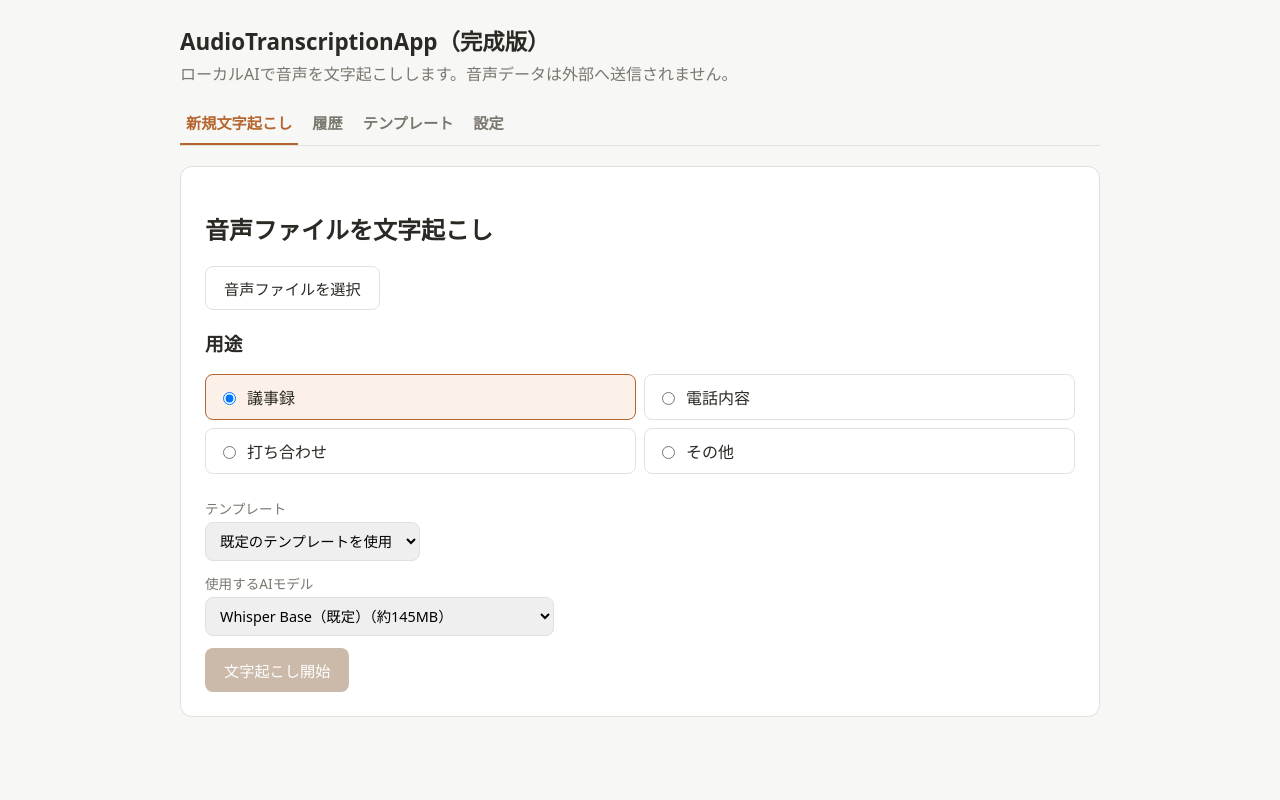
Test case: App（完成版 画面遷移） › モデル未キャッシュ時はダウンロード同意画面を経由してから文字起こしが始まる
Click the button "音声ファイルを選択": (292, 288) [205, 266, 380, 310]
(page scrolled)
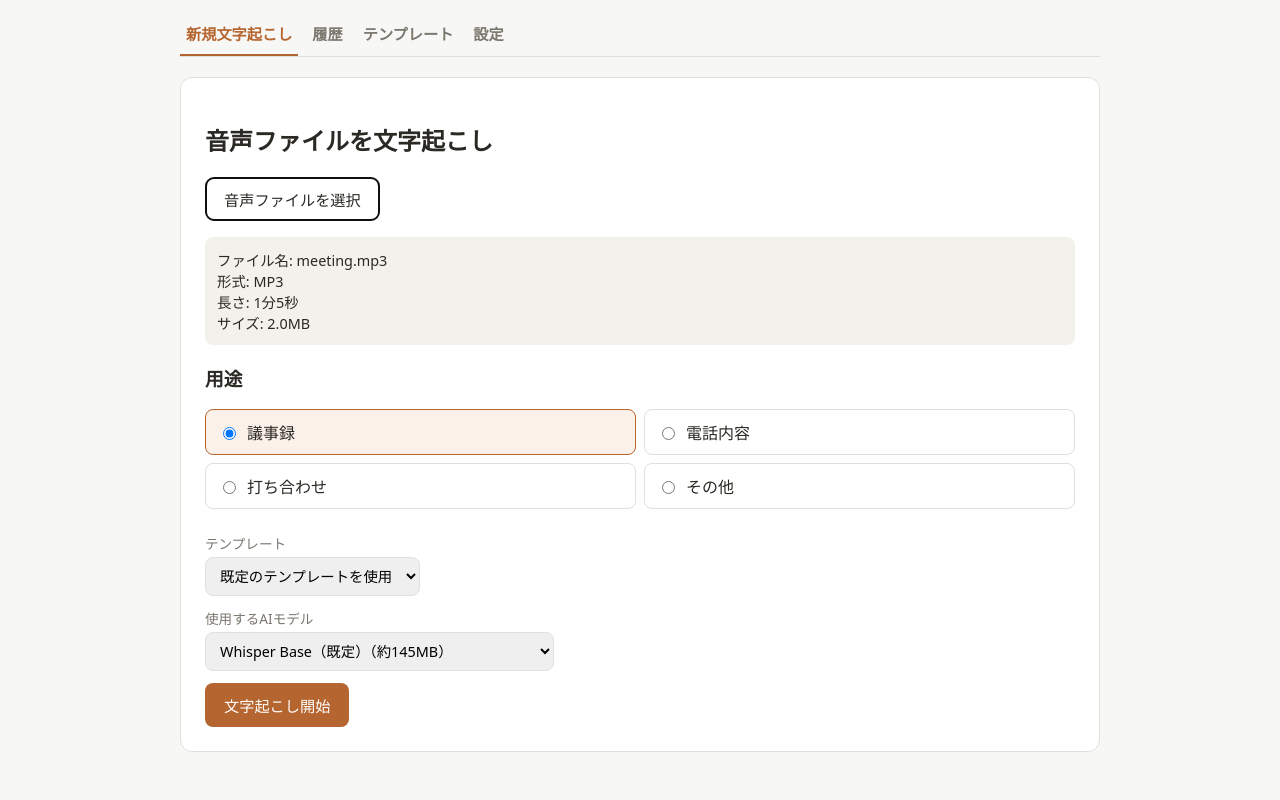
expect the element with test id "file-info" is shown: met, box [205, 237, 1075, 345]
Click the button with test id "start-button": (277, 705) [205, 683, 349, 727]
(page scrolled)
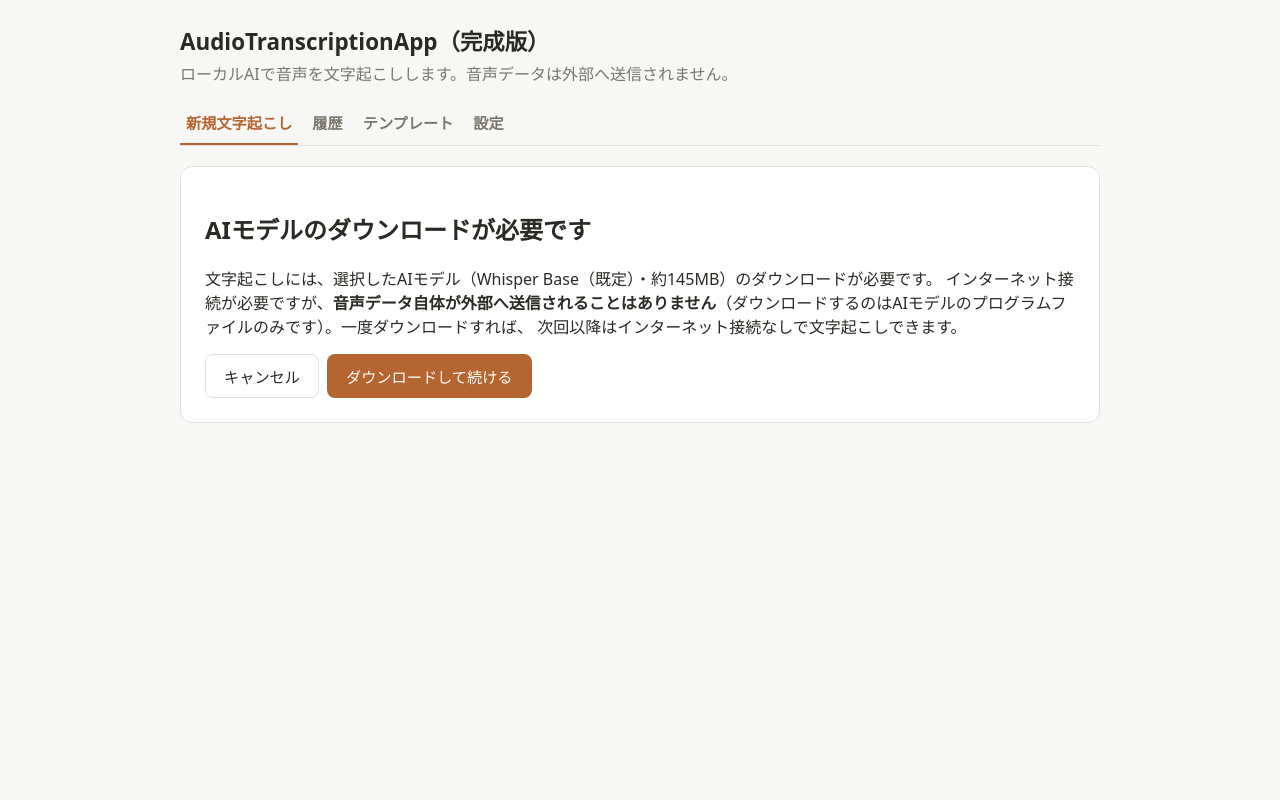
expect the element with test id "model-download-screen" is shown: met, box [180, 166, 1100, 423]
expect the button with test id "download-confirm-button" is shown: met
Click the button with test id "download-confirm-button": (429, 376) [327, 354, 532, 398]
(page scrolled)
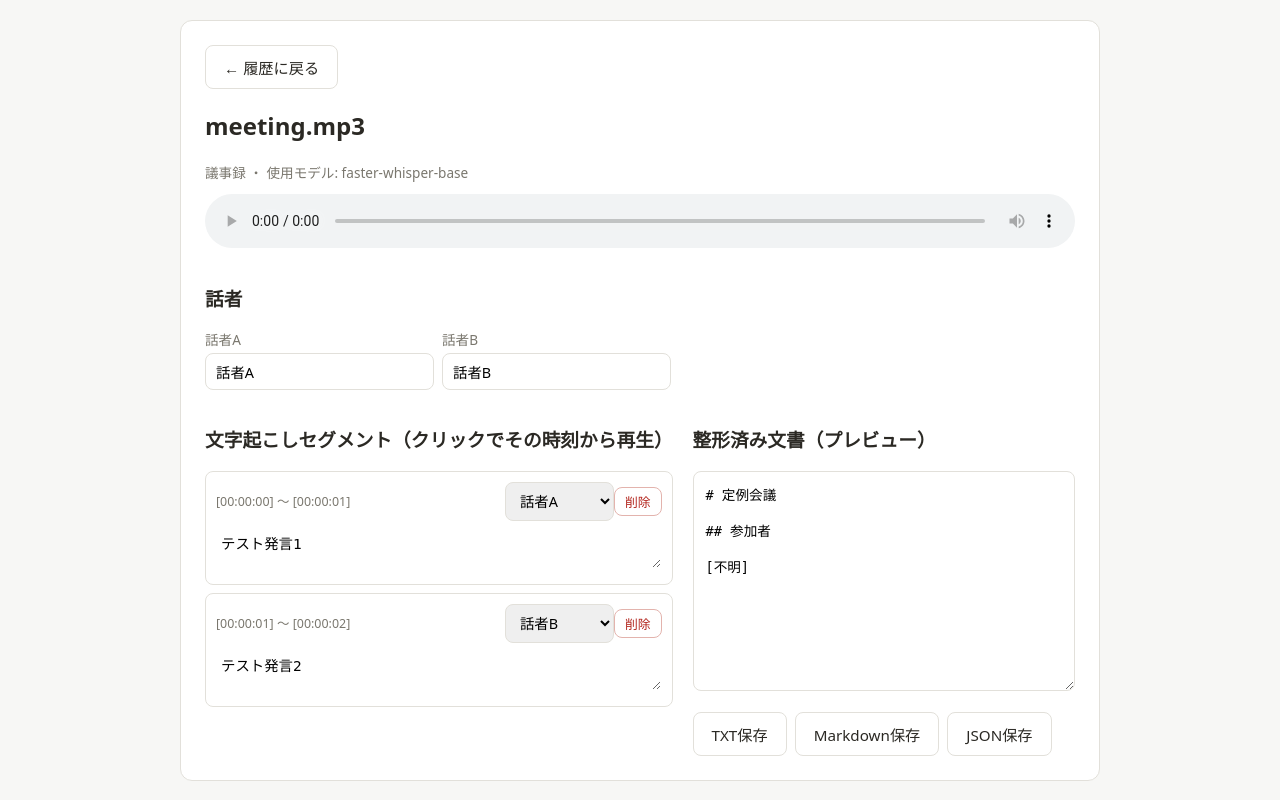
expect the element with test id "job-detail-screen" is shown: met
